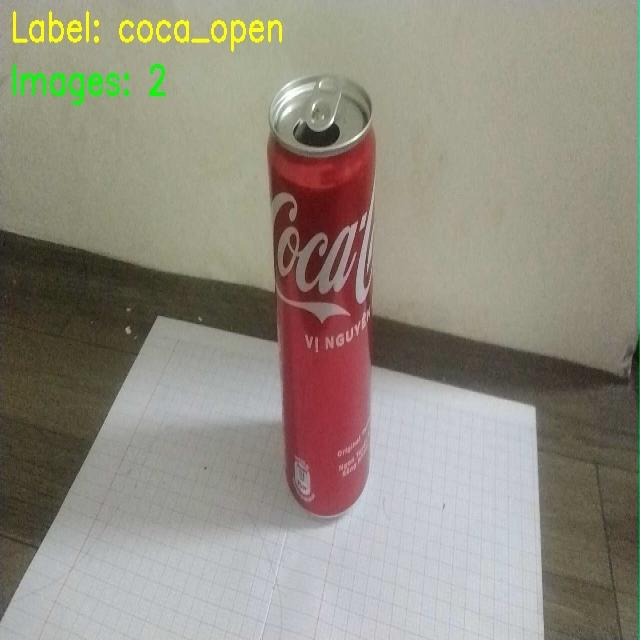Coca_open: (238, 56, 417, 522)
